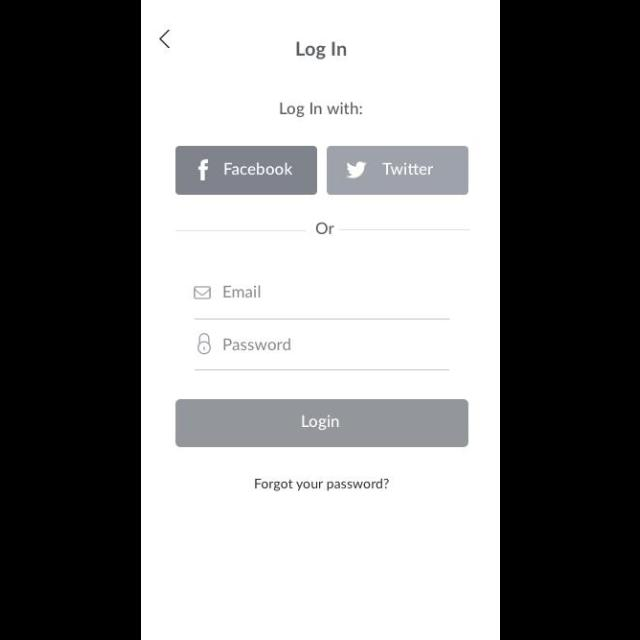icon: (198, 333, 212, 355), (192, 286, 212, 300), (158, 31, 172, 49)
input: (194, 332, 450, 372), (192, 284, 450, 320)
text: (254, 478, 390, 492), (280, 102, 362, 118), (223, 337, 291, 351), (296, 41, 346, 59), (223, 284, 260, 300), (316, 223, 334, 235)
textbutton: (175, 400, 469, 448), (175, 147, 317, 196), (327, 147, 469, 196)
